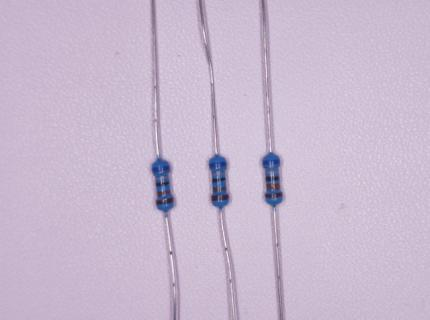Black band: (156, 181, 169, 187), (212, 178, 226, 183), (266, 176, 280, 181)
Blue band: (152, 165, 169, 172), (210, 162, 226, 167), (263, 160, 279, 165)
Brown band: (212, 194, 228, 202), (156, 198, 173, 205), (265, 191, 282, 198)
Grey band: (265, 170, 279, 175), (156, 175, 169, 180), (212, 172, 225, 176)
Orange band: (157, 190, 171, 197), (267, 183, 280, 190), (212, 187, 226, 192)
